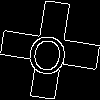O: (25, 25, 71, 77)
